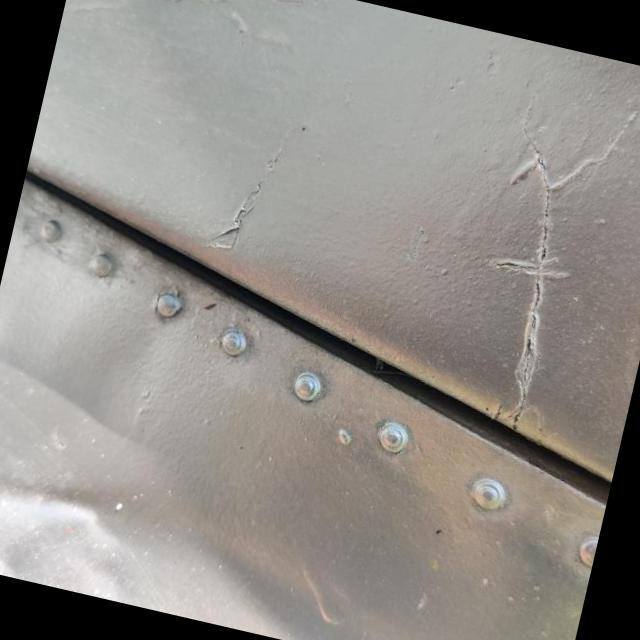Crack: (503, 160, 569, 428)
